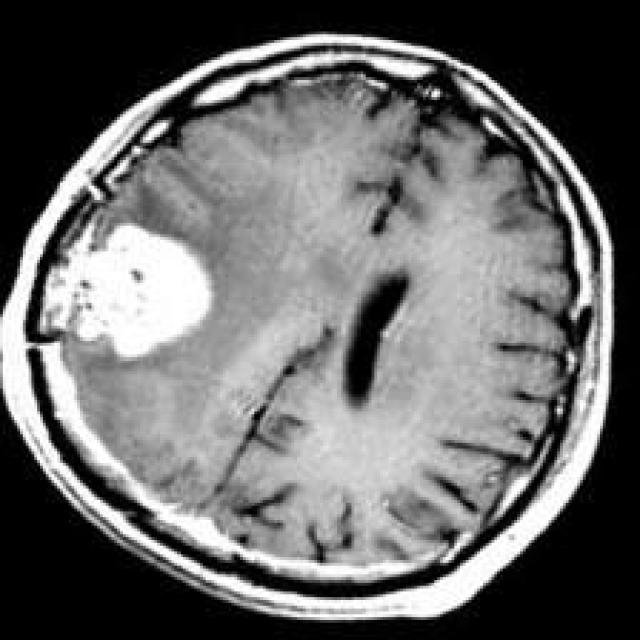Tumor: (43, 223, 214, 360)
